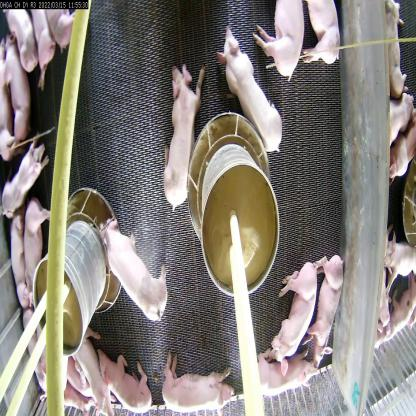Pig: (208, 13, 284, 147), (100, 212, 176, 330), (163, 57, 205, 212), (155, 348, 237, 410), (270, 261, 316, 367), (254, 4, 307, 80), (0, 46, 35, 148), (100, 342, 152, 408), (0, 146, 50, 214), (255, 355, 318, 406), (305, 0, 347, 72), (314, 251, 340, 367), (26, 192, 51, 292), (72, 339, 103, 416), (10, 219, 35, 310), (42, 2, 80, 56), (24, 15, 53, 78), (8, 10, 34, 68)
